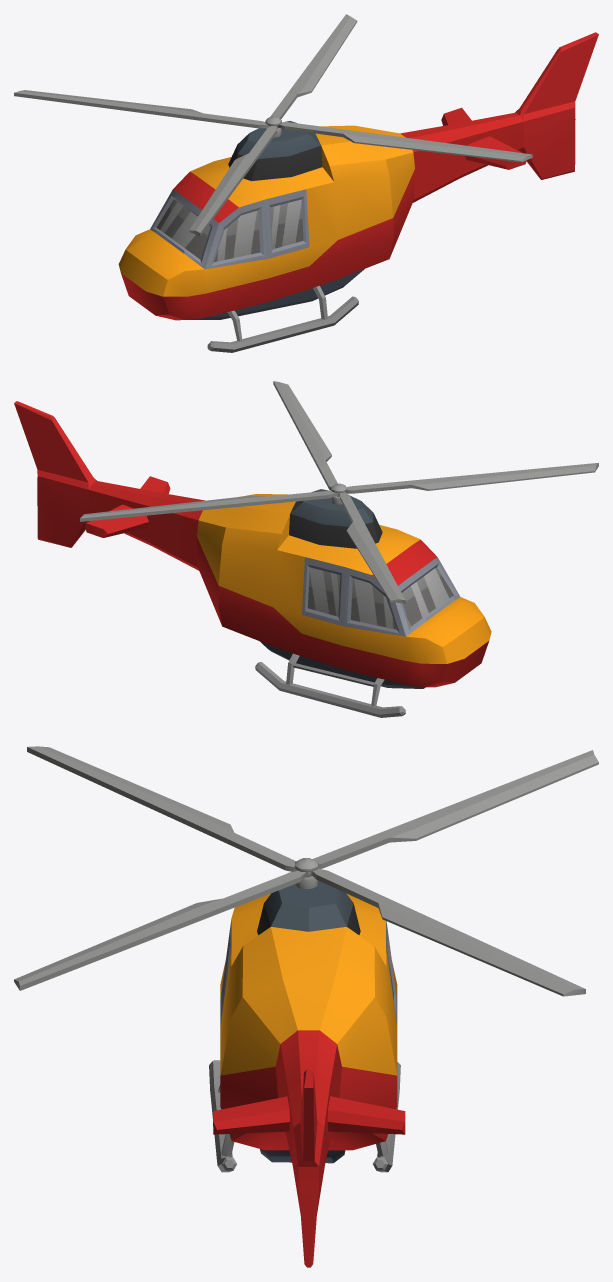
The model's file is Helicopter_2_C.fbx.
3 views of the same model, one above another, from view 1: azimuth 30°, elevation 25°; view 2: azimuth 150°, elevation 25°; view 3: azimuth 270°, elevation 25° (orthographic). The views are drawn at different scales.
Visible parts, largest first — view 1: Helicopter_2_C, Rotator_main; view 2: Helicopter_2_C, Rotator_main; view 3: Helicopter_2_C, Rotator_main.
Boxes of the visible parts, x1,y1,x2,y2 form: Helicopter_2_C: [118, 32, 598, 352]; Rotator_main: [14, 14, 532, 236]; Helicopter_2_C: [14, 401, 491, 717]; Rotator_main: [80, 381, 598, 603]; Helicopter_2_C: [209, 880, 405, 1267]; Rotator_main: [14, 746, 598, 996].
Bounding box in the file's own units: 1045 × 402 × 719.
